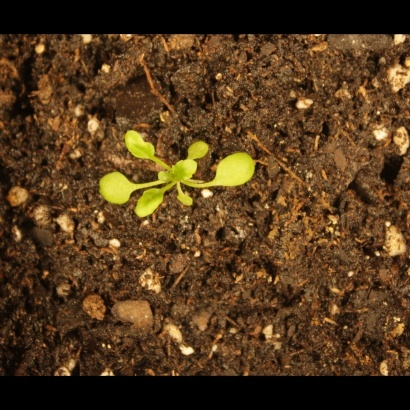leaf: (94, 166, 138, 213), (210, 150, 260, 189), (120, 126, 160, 163), (130, 188, 166, 225), (171, 157, 201, 185), (185, 137, 213, 164), (172, 190, 195, 213), (152, 163, 175, 186)
